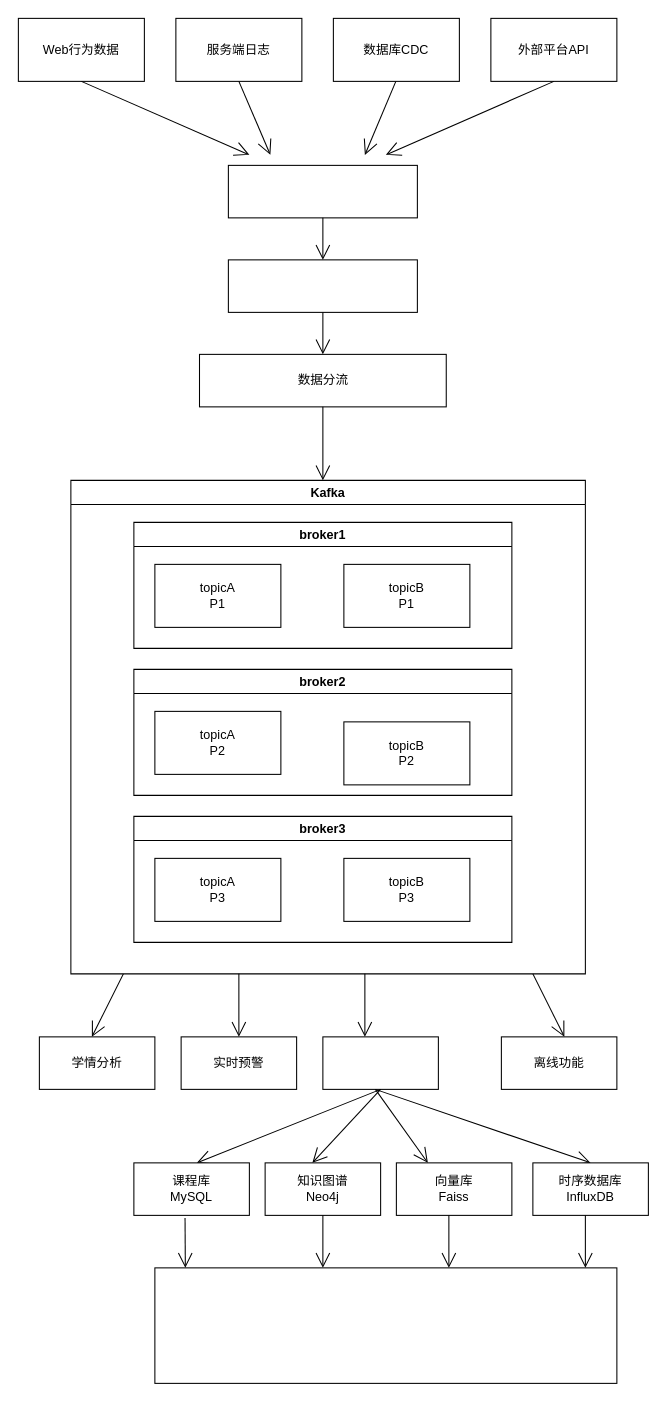
Image size: 667x1402. Some labels were removed from this diagram. Each missing label, with the centre of its shape:
"字段校验+数据清洗+格式化" goes at point (322, 285).
"数据湖 阿里DLF" goes at point (380, 1062).
"添加服务端元数据" goes at point (322, 191).
"统一数据接口" goes at point (385, 1325).
